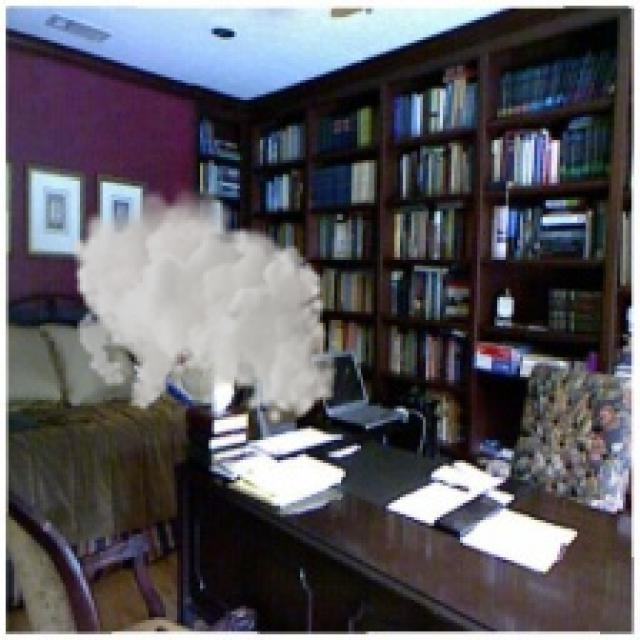Smoke: (69, 180, 338, 426)
